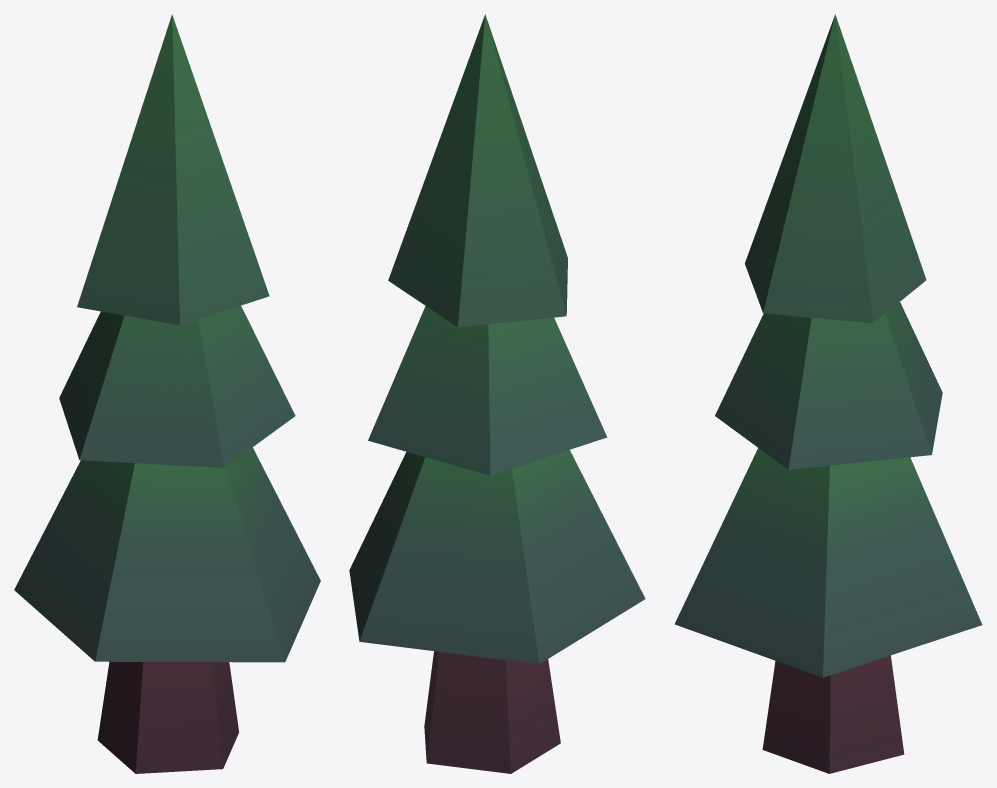
File: tree.gltf
The picture shows the model from 3 angles, left to right: view 1: azimuth 30°, elevation 25°; view 2: azimuth 150°, elevation 25°; view 3: azimuth 270°, elevation 25°; orthographic projection.
Parts seen in each view (by area): view 1: tree; view 2: tree; view 3: tree.
Boxes of the visible parts, bbox=[...] form: tree: bbox=[14, 14, 320, 773]; tree: bbox=[349, 14, 645, 773]; tree: bbox=[675, 14, 982, 773].
Size of the model in its own units: 0.8037 by 2.15 by 0.8236.
1 material, 1 textured.
